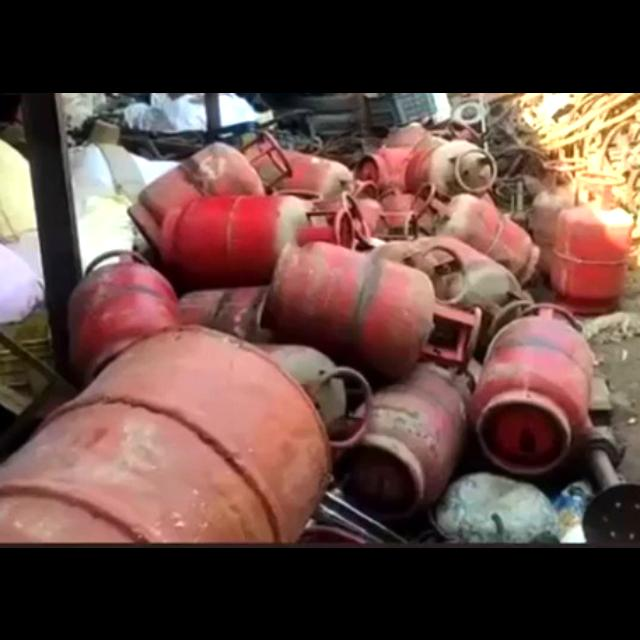Cylinders: (265, 238, 479, 376), (466, 301, 593, 482), (547, 173, 633, 321)
